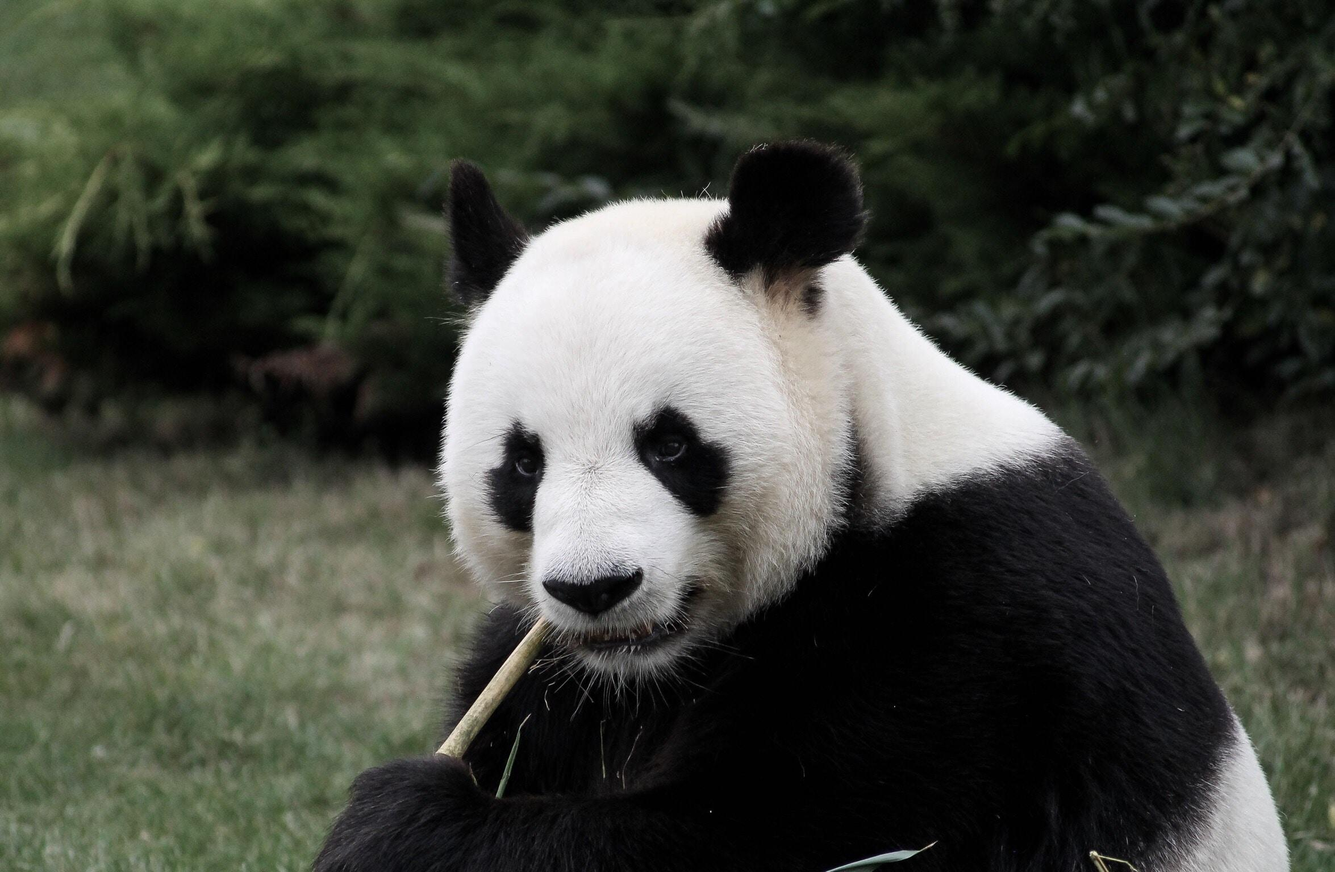panda: (341, 154, 1285, 872)
